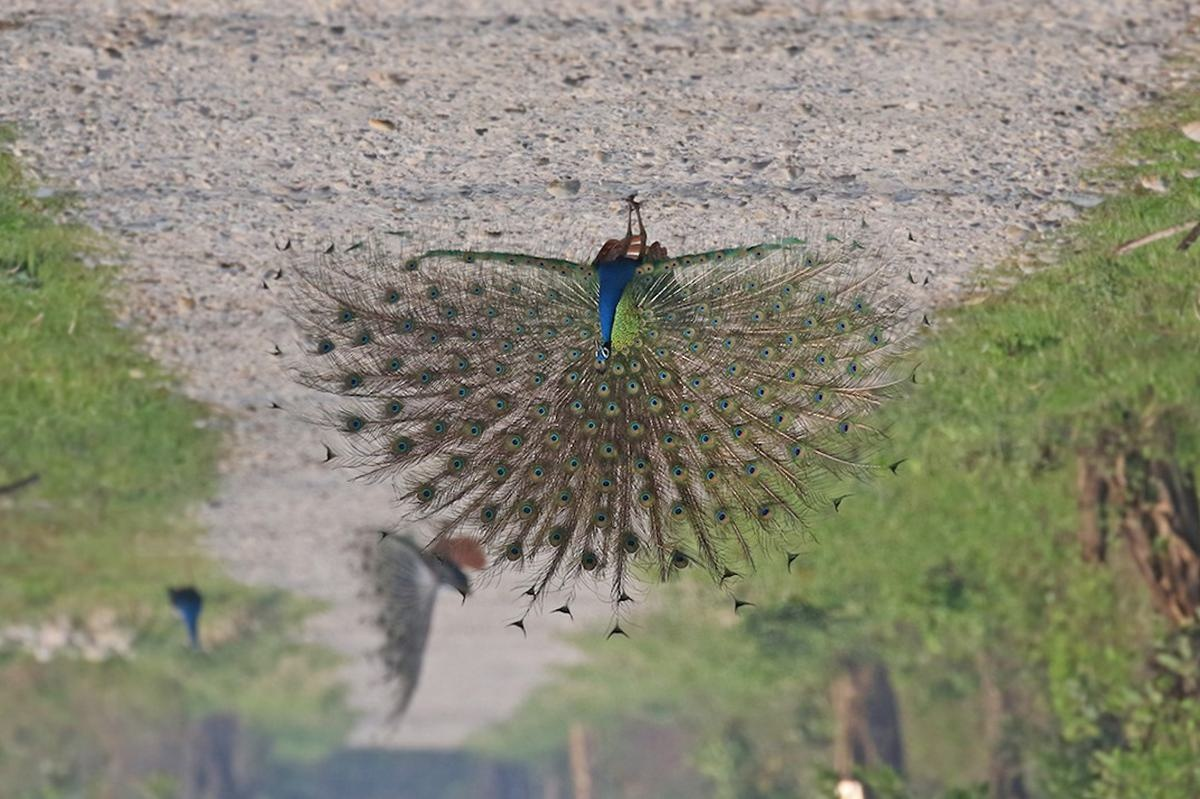peacock: (355, 229, 935, 573)
